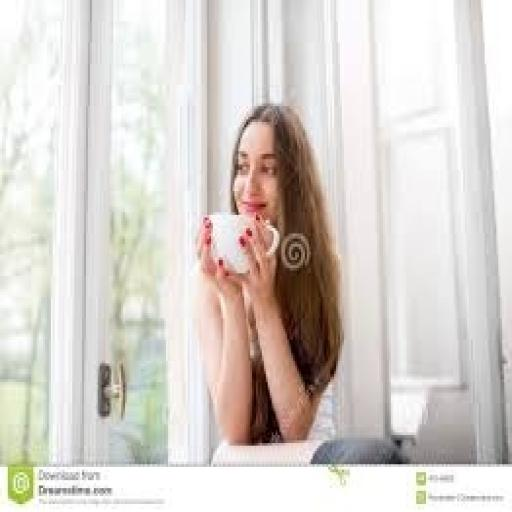drinking: (204, 47, 308, 276)
